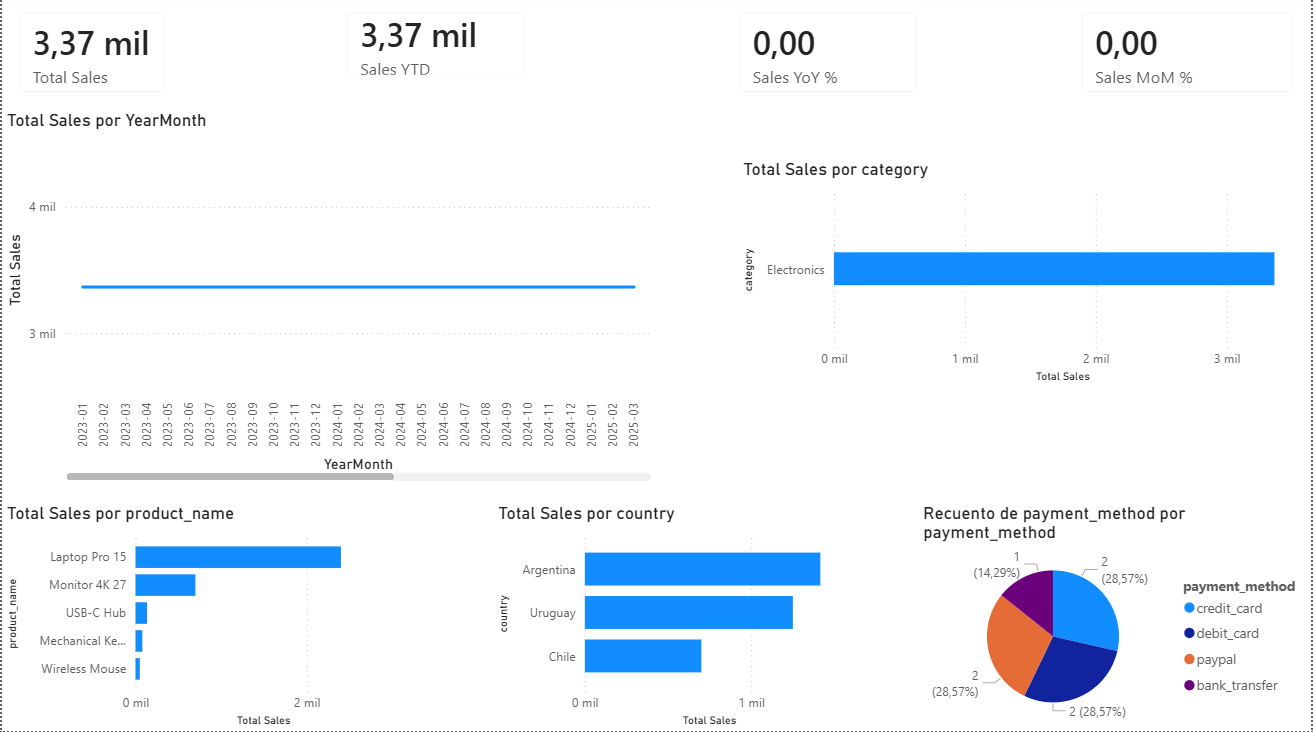

The page's visual inventory and layout, read from the dashboard file:
{"tool":"powerbi","page":{"name":"Página 1","canvas":[1280,720],"ordinal":0},"visuals":[{"type":"cardVisual","fields":{"Data":["public fact_sales.Total Sales"]},"box":[0,0,176,112],"z":0},{"type":"cardVisual","fields":{"Data":["public fact_sales.Sales YTD"]},"box":[320,0,208,96],"z":1000},{"type":"cardVisual","fields":{"Data":["public fact_sales.Sales YoY %"]},"box":[704,0,208,112],"z":2000},{"type":"cardVisual","fields":{"Data":["public fact_sales.Sales MoM %"]},"box":[1040,0,240,112],"z":3000},{"type":"lineChart","fields":{"Category":["dim_date.YearMonth"],"Y":["public fact_sales.Total Sales"]},"box":[0,112,640,368],"z":4000},{"type":"barChart","fields":{"Category":["public products.category"],"Y":["public fact_sales.Total Sales"]},"box":[720,160,560,224],"z":5000},{"type":"clusteredBarChart","fields":{"Category":["public products.product_name"],"Y":["public fact_sales.Total Sales"]},"box":[0,496,400,224],"z":6000},{"type":"barChart","fields":{"Category":["public users.country"],"Y":["public fact_sales.Total Sales"]},"box":[480,496,352,224],"z":7000},{"type":"pieChart","fields":{"Category":["public fact_sales.payment_method"],"Y":["CountNonNull(public fact_sales.payment_method)"]},"box":[896,496,384,224],"z":7001}]}

Visuals, with their boxes in screenshot pixels (x1, y1, x2, y2), scaled from the page's 1280x720 canvas onto the 1313x732 screenshot:
cardVisual - public fact_sales.Total Sales: bbox=[0, 0, 181, 114]
cardVisual - public fact_sales.Sales YTD: bbox=[328, 0, 542, 98]
cardVisual - public fact_sales.Sales YoY %: bbox=[722, 0, 936, 114]
cardVisual - public fact_sales.Sales MoM %: bbox=[1067, 0, 1312, 114]
lineChart - dim_date.YearMonth x public fact_sales.Total Sales: bbox=[0, 114, 656, 488]
barChart - public products.category x public fact_sales.Total Sales: bbox=[739, 163, 1312, 390]
clusteredBarChart - public products.product_name x public fact_sales.Total Sales: bbox=[0, 504, 410, 731]
barChart - public users.country x public fact_sales.Total Sales: bbox=[492, 504, 853, 731]
pieChart - public fact_sales.payment_method x CountNonNull(public fact_sales.payment_method): bbox=[919, 504, 1312, 731]
